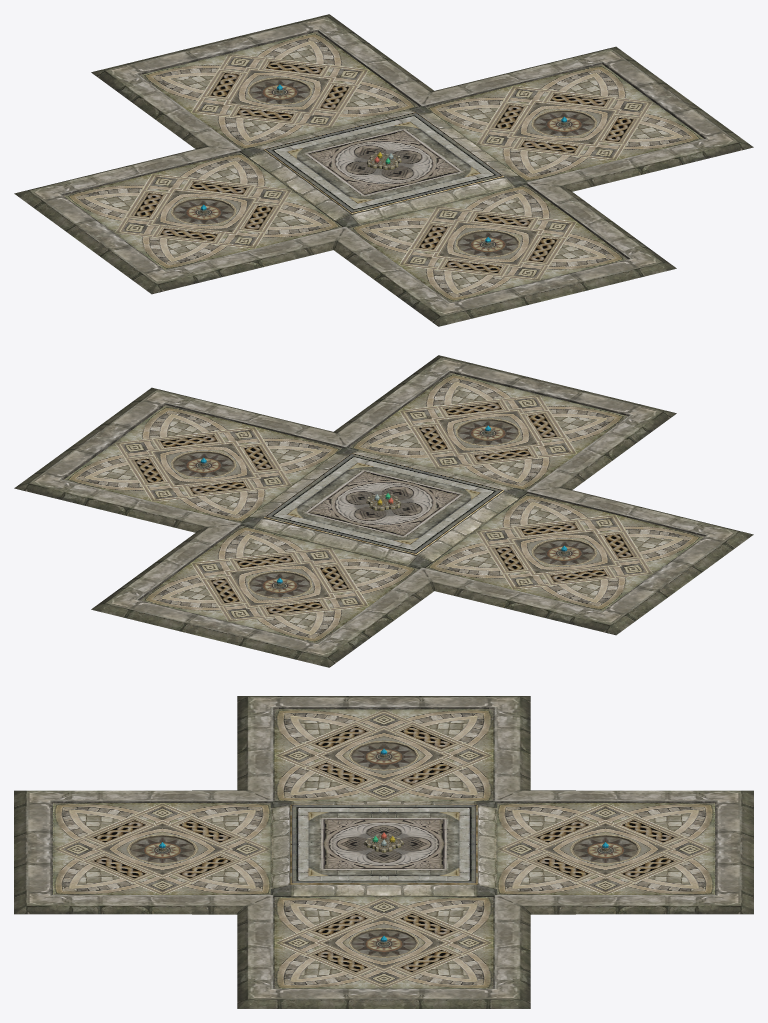
File: ManticoreNest_Trap.FBX
The picture shows the model from 3 angles, top to bottom: view 1: azimuth 30°, elevation 25°; view 2: azimuth 150°, elevation 25°; view 3: azimuth 270°, elevation 25°; orthographic projection. The views are drawn at different scales.
Parts seen in each view (by area): view 1: ManticoreNest_Trap; view 2: ManticoreNest_Trap; view 3: ManticoreNest_Trap.
Part boxes in pixels (left/top/right/bottom): ManticoreNest_Trap: left=14, top=14, right=753, bottom=326; ManticoreNest_Trap: left=14, top=355, right=753, bottom=667; ManticoreNest_Trap: left=14, top=696, right=753, bottom=1008.
Bounding box in the file's own units: 3939 × 115 × 3939.
